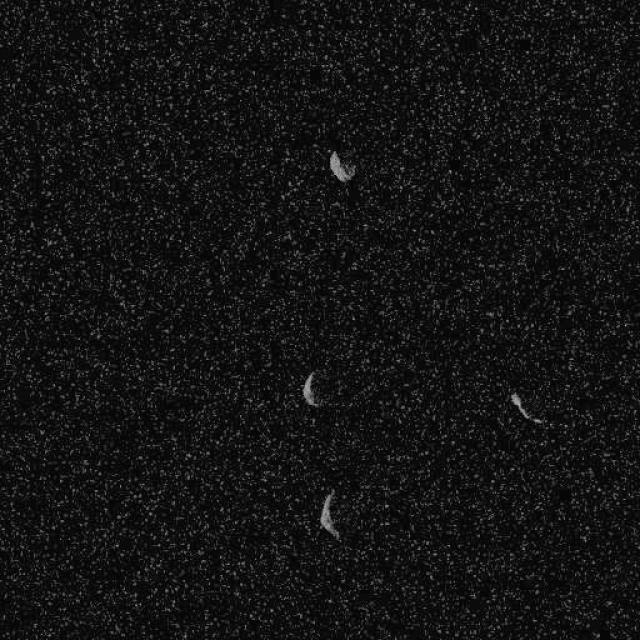D2: (508, 390, 544, 426), (318, 489, 340, 539), (328, 148, 357, 182), (302, 368, 322, 407)
